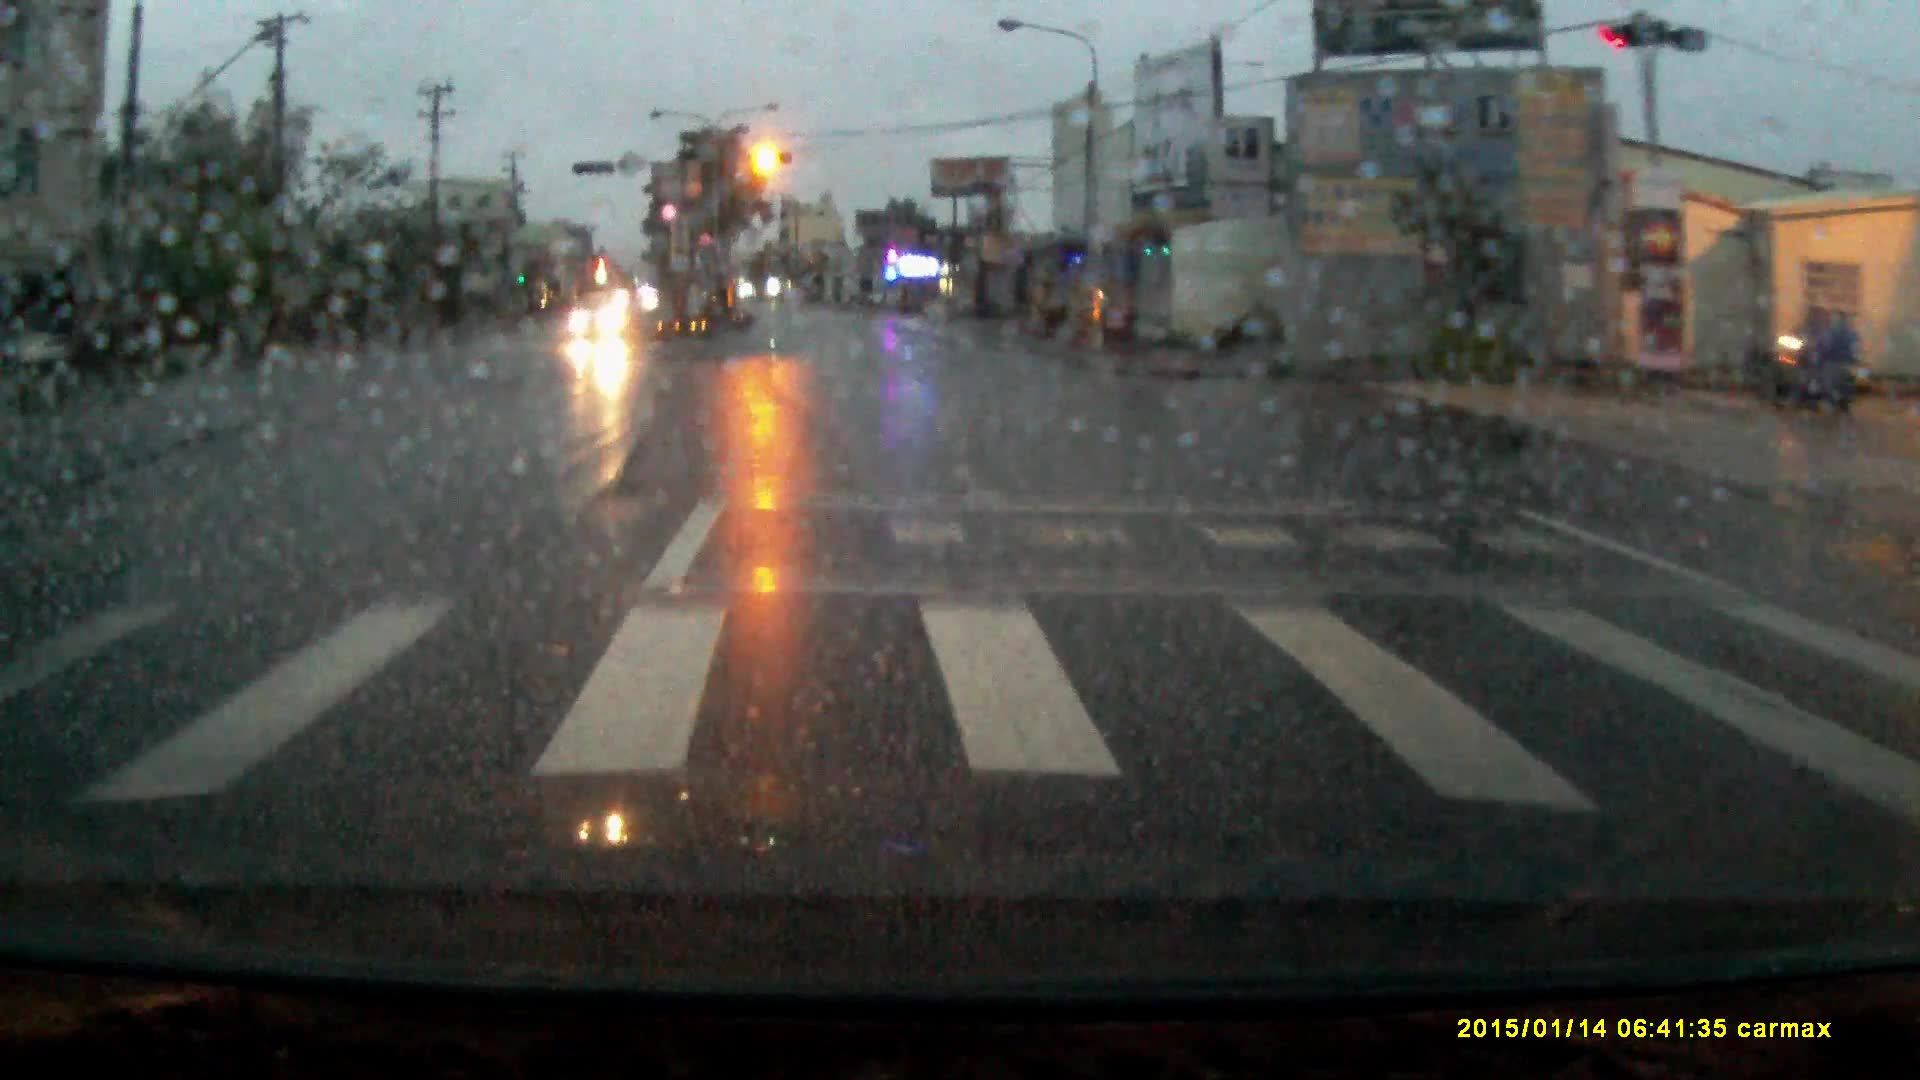rider: (1763, 294, 1867, 418)
vehicle: (568, 294, 632, 339)
